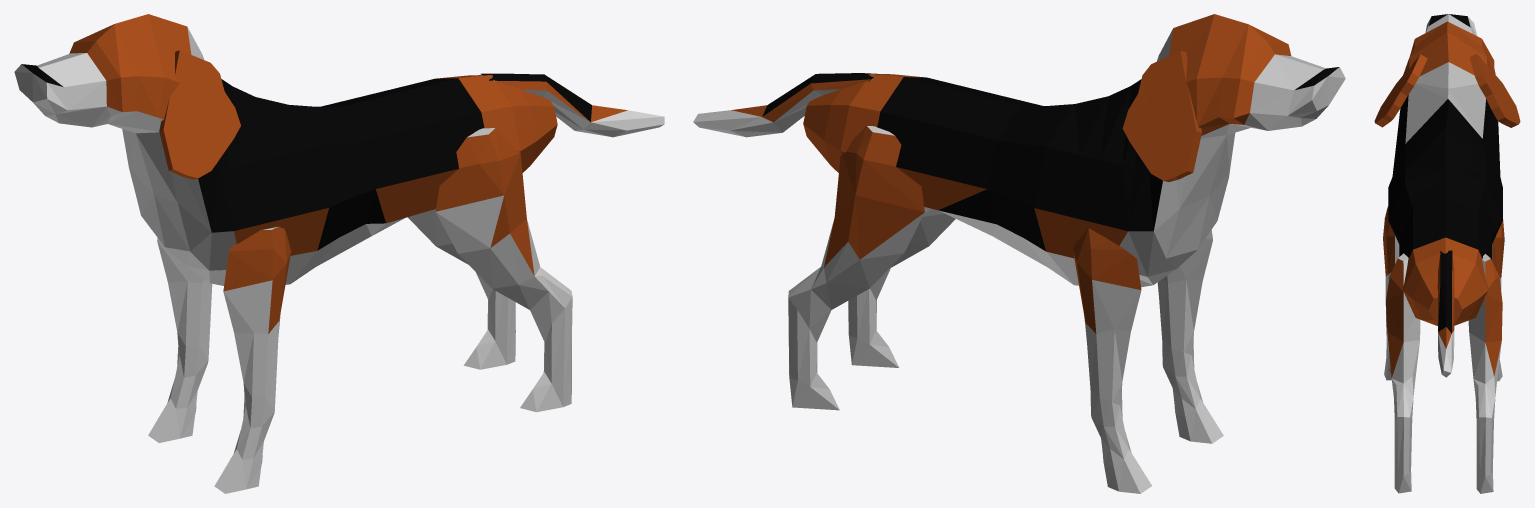
File: beagle.obj
The picture shows the model from 3 angles, left to right: view 1: azimuth 30°, elevation 25°; view 2: azimuth 150°, elevation 25°; view 3: azimuth 270°, elevation 25°; orthographic projection. The views are drawn at different scales.
Visible parts, largest first — view 1: body_Cylinder, hind_leg.002_Cylinder.006, front_leg.002_Cylinder.005, Cube.002, front_leg_Cylinder.001, tail_Cylinder.003, hind_leg_Cylinder.002; view 2: body_Cylinder, hind_leg_Cylinder.002, front_leg_Cylinder.001, Cube, front_leg.002_Cylinder.005, tail_Cylinder.003, hind_leg.002_Cylinder.006; view 3: body_Cylinder, hind_leg.002_Cylinder.006, hind_leg_Cylinder.002, tail_Cylinder.003, Cube, Cube.002, front_leg.002_Cylinder.005, front_leg_Cylinder.001.
Part boxes in pixels (x1,y1,x2,y2): body_Cylinder: (14, 14, 557, 285); hind_leg.002_Cylinder.006: (435, 128, 572, 412); front_leg.002_Cylinder.005: (214, 226, 291, 493); Cube.002: (159, 50, 240, 179); front_leg_Cylinder.001: (148, 238, 212, 442); tail_Cylinder.003: (480, 73, 664, 137); hind_leg_Cylinder.002: (407, 209, 515, 369); body_Cylinder: (803, 14, 1345, 287); hind_leg_Cylinder.002: (788, 126, 924, 410); front_leg_Cylinder.001: (1073, 228, 1151, 493); Cube: (1122, 51, 1201, 182); front_leg.002_Cylinder.005: (1157, 230, 1223, 443); tail_Cylinder.003: (693, 73, 879, 137); hind_leg.002_Cylinder.006: (848, 207, 955, 367); body_Cylinder: (1388, 14, 1502, 325); hind_leg.002_Cylinder.006: (1386, 253, 1420, 493); hind_leg_Cylinder.002: (1468, 254, 1502, 493); tail_Cylinder.003: (1437, 250, 1454, 377); Cube: (1469, 53, 1520, 127); Cube.002: (1374, 54, 1427, 127); front_leg.002_Cylinder.005: (1383, 206, 1399, 380); front_leg_Cylinder.001: (1492, 220, 1504, 381).
Size of the model in its own units: 3.33 by 2.33 by 0.9419.
